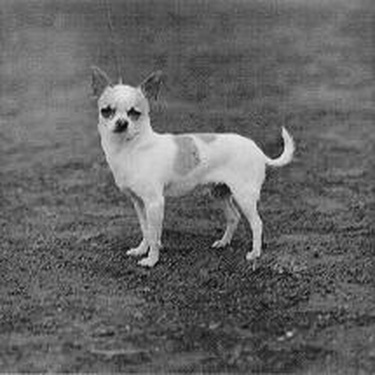dog: (76, 60, 300, 277)
